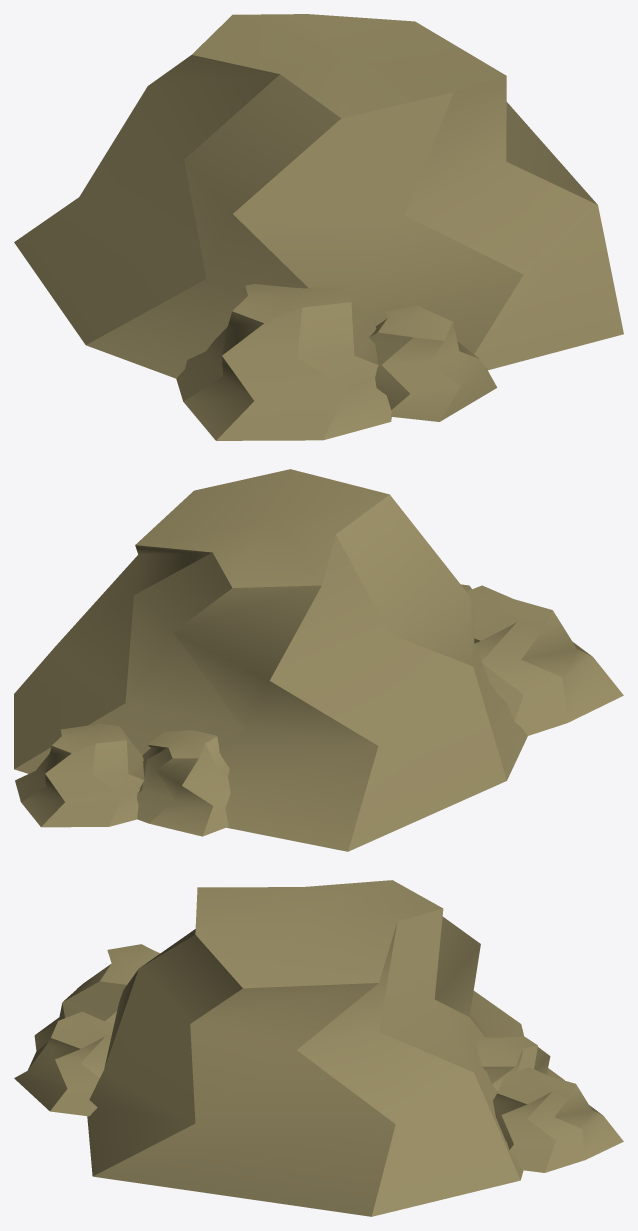
File: rockCluster.fbx
The picture shows the model from 3 angles, top to bottom: view 1: azimuth 30°, elevation 25°; view 2: azimuth 150°, elevation 25°; view 3: azimuth 270°, elevation 25°; orthographic projection. The views are drawn at different scales.
Parts seen in each view (by area): view 1: mainrock, rock3, rock4; view 2: mainrock, rock3, rock1, rock2; view 3: mainrock, rock1, rock4, rock3, rock2.
Part boxes in pixels (box(x1,y1,x2,y2)): mainrock: box(14, 14, 623, 378); rock3: box(176, 284, 391, 440); rock4: box(369, 305, 497, 421); mainrock: box(14, 469, 527, 851); rock3: box(466, 585, 623, 735); rock1: box(15, 724, 144, 827); rock2: box(137, 730, 230, 836); mainrock: box(87, 880, 524, 1216); rock1: box(493, 1067, 623, 1172); rock4: box(14, 1011, 113, 1116); rock3: box(34, 944, 159, 1051); rock2: box(476, 1036, 564, 1091).
Size of the model in its own units: 9.9 by 4.2 by 11.83.
